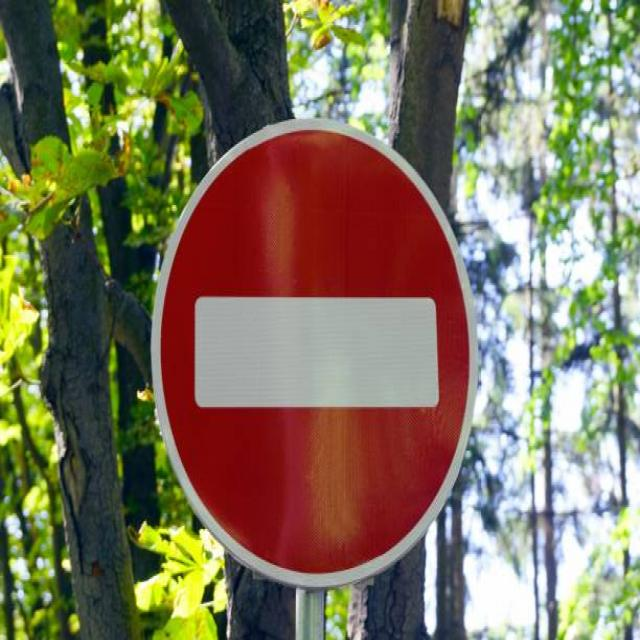do_not_enter: (151, 110, 485, 593)
